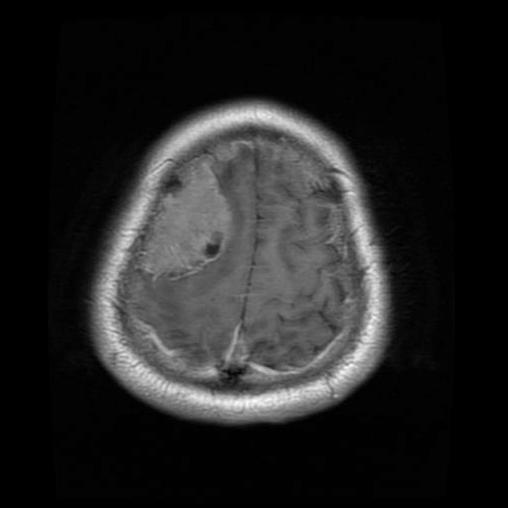Tumour-Pituitary: (129, 148, 245, 294)
